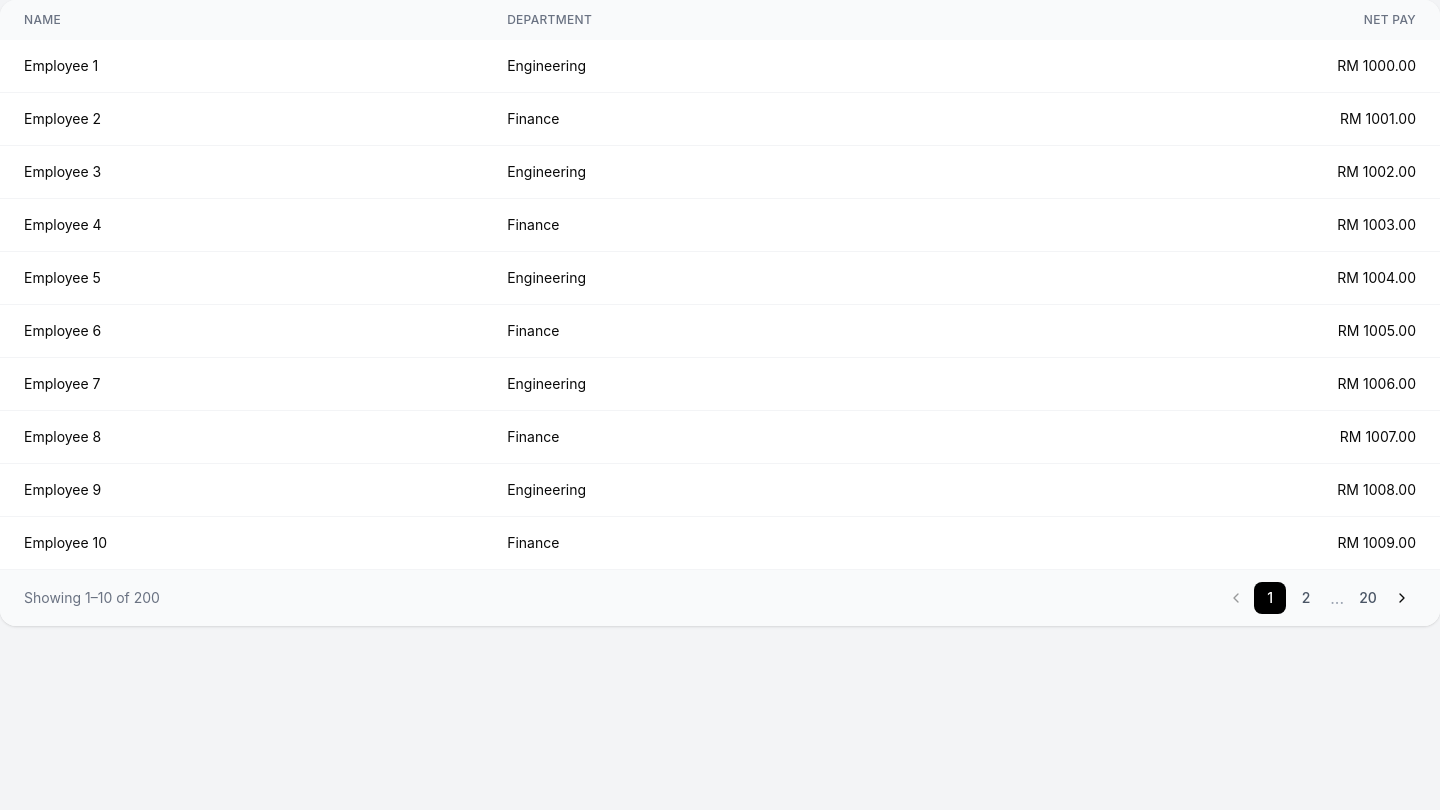
DataTable client-side pagination › collapses distant pages behind ellipses once the range grows
Expected: the text "..." is shown once, left=1330, top=588, right=1344, bottom=608
Expected: the button "1" is shown, left=1254, top=582, right=1286, bottom=614
Click the button "20": (1368,598) left=1352, top=582, right=1384, bottom=614
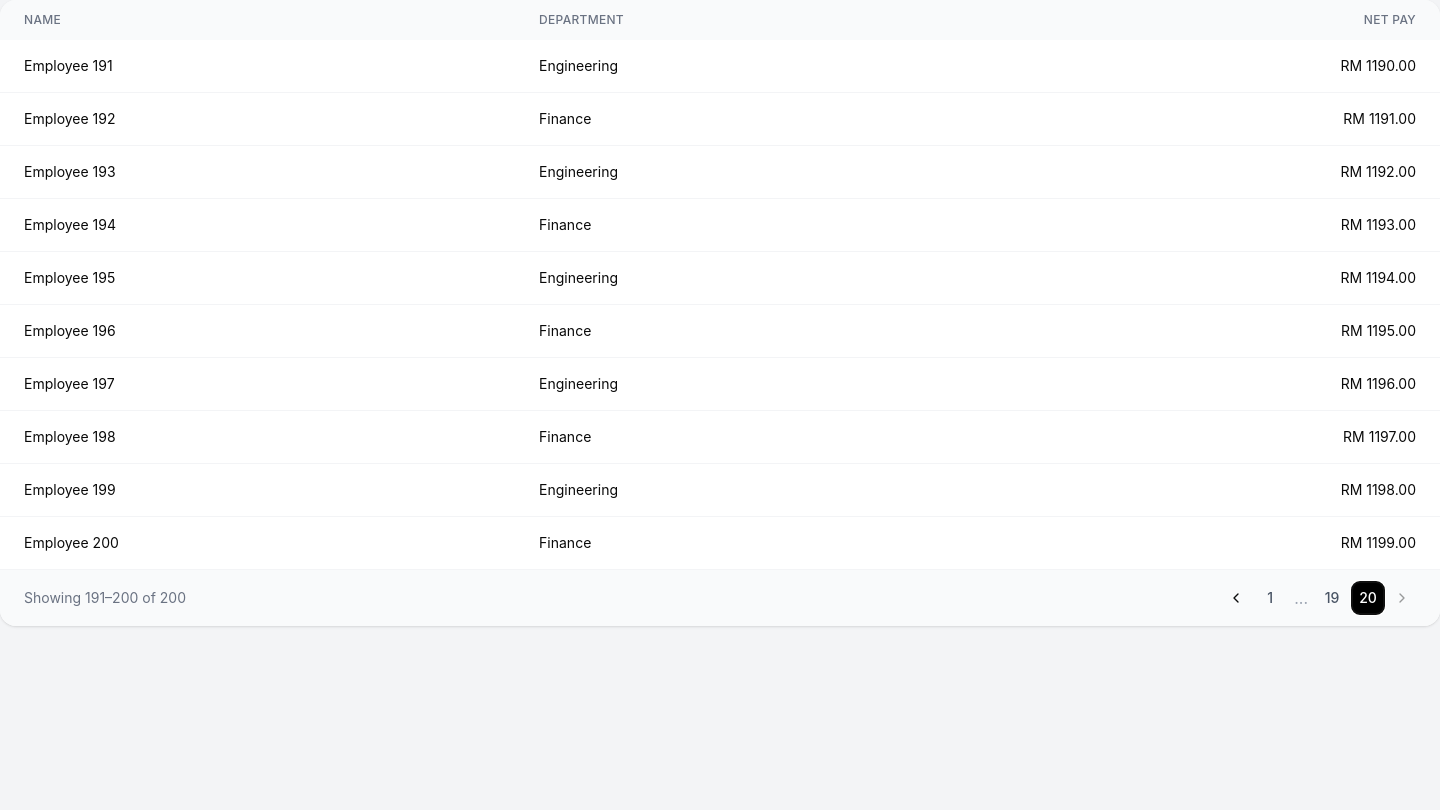
Expected: the text "..." is shown once, left=1294, top=588, right=1308, bottom=608
Now the text "Showing 191–200 of 200" is shown, box left=24, top=588, right=186, bottom=608
